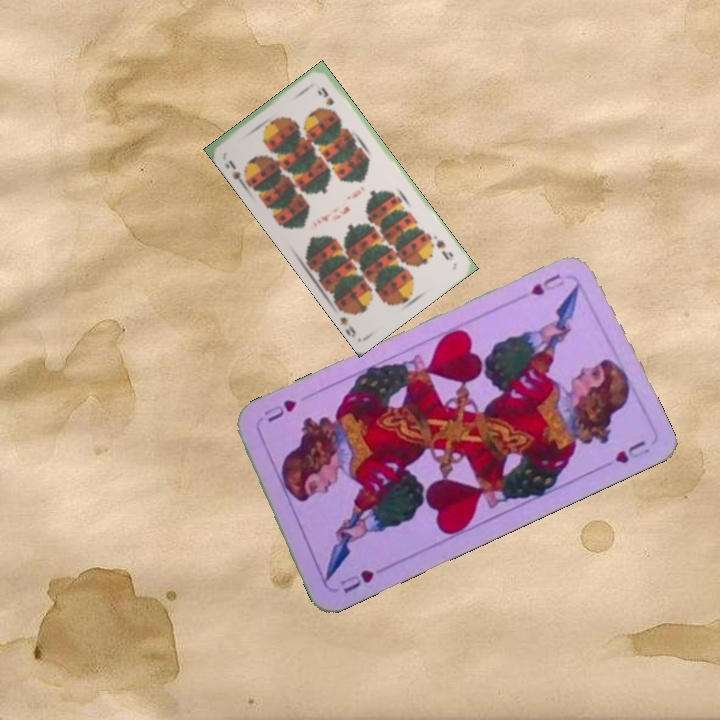HU: (335, 565, 377, 596), (526, 269, 567, 299)
S9: (221, 156, 253, 189), (432, 235, 456, 262)
